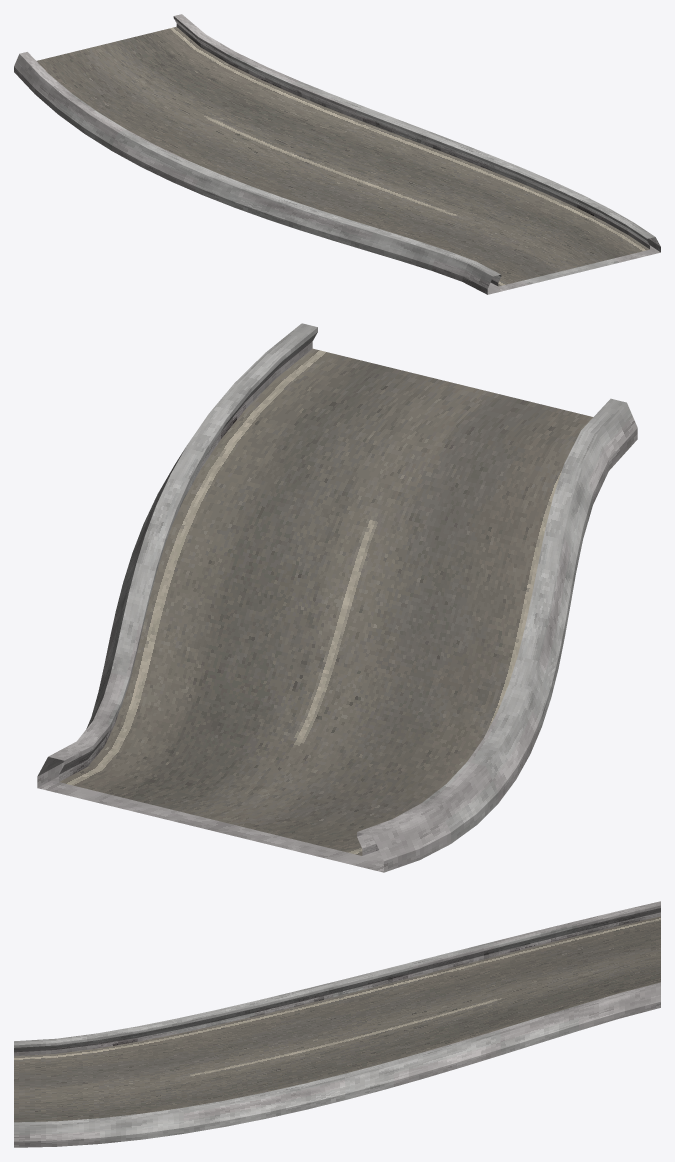
File: chicane-left1x3.glb
The picture shows the model from 3 angles, top to bottom: view 1: azimuth 30°, elevation 25°; view 2: azimuth 150°, elevation 25°; view 3: azimuth 270°, elevation 25°; orthographic projection. The views are drawn at different scales.
Parts seen in each view (by area): view 1: road-Chicane-Flat-BiSlopeUp-Up1-Left1-Size3; view 2: road-Chicane-Flat-BiSlopeUp-Up1-Left1-Size3; view 3: road-Chicane-Flat-BiSlopeUp-Up1-Left1-Size3.
Part boxes in pixels (<box>): road-Chicane-Flat-BiSlopeUp-Up1-Left1-Size3: <box>14,14,660,294</box>; road-Chicane-Flat-BiSlopeUp-Up1-Left1-Size3: <box>37,323,637,872</box>; road-Chicane-Flat-BiSlopeUp-Up1-Left1-Size3: <box>14,901,660,1147</box>.
Size of the model in its own units: 2 by 0.3476 by 3.
Materials: 2 (2 with a texture image).
